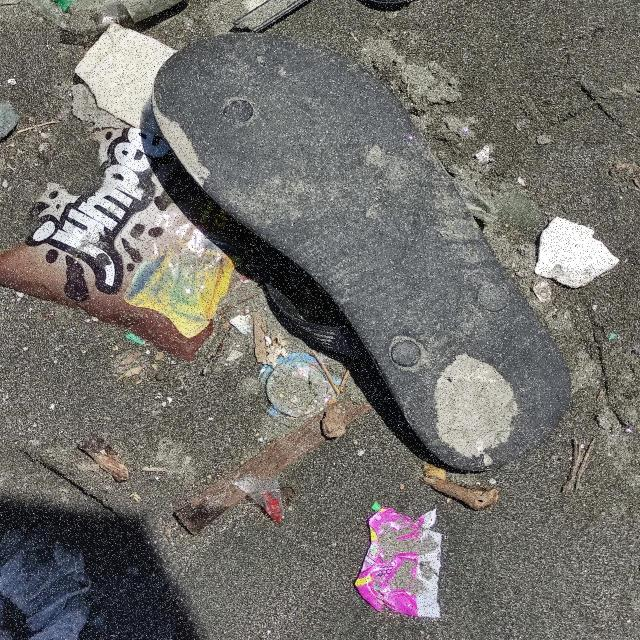plastic_waste: (355, 508, 446, 621)
rubber_waste: (152, 38, 590, 476)
